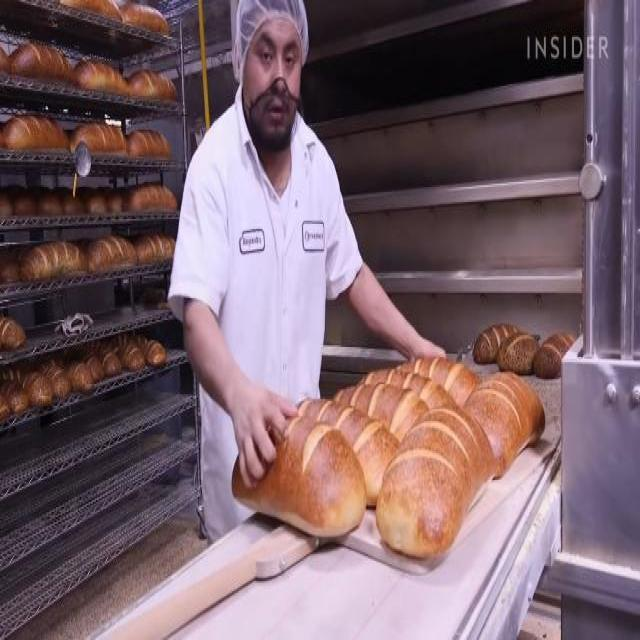bare_hand: (229, 340, 304, 514), (400, 313, 450, 379)
